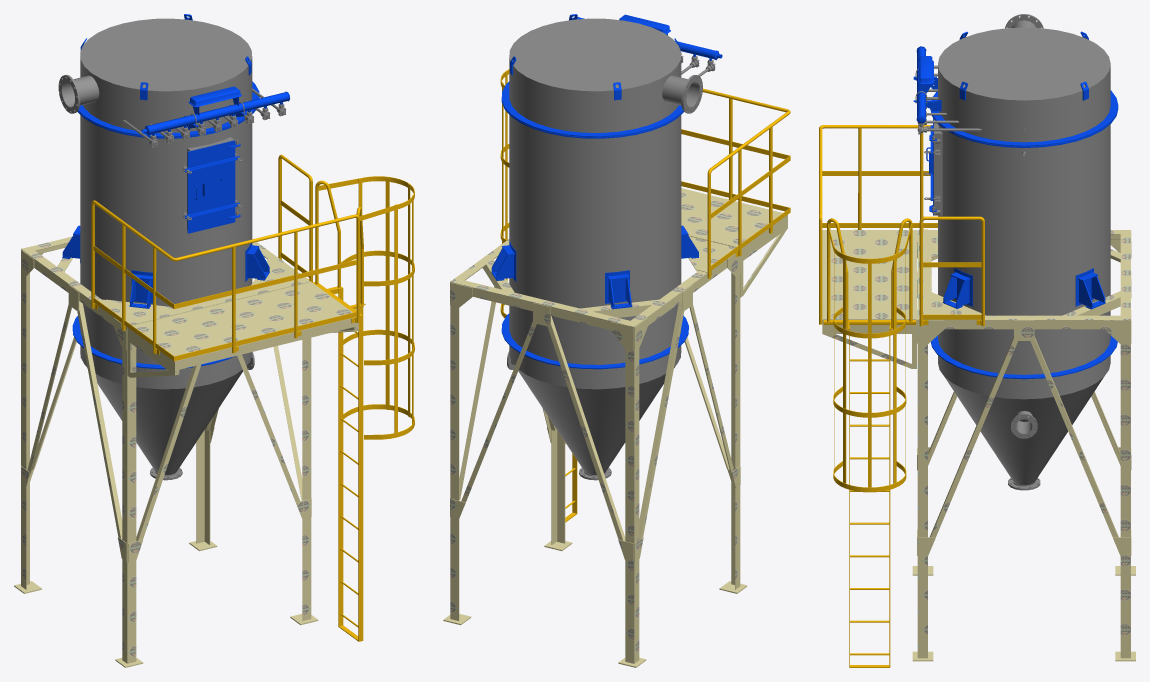
3 renders of one model, left to right at view 1: azimuth 30°, elevation 25°; view 2: azimuth 150°, elevation 25°; view 3: azimuth 270°, elevation 25°, orthographic.
Visible parts, largest first — view 1: alumiumParts, beige_ステージ, yellowParts, blueparts; view 2: alumiumParts, beige_ステージ, blueparts, yellowParts; view 3: alumiumParts, beige_ステージ, yellowParts, blueparts.
Part boxes in pixels (x1,y1,x2,y2): alumiumParts: [58, 18, 286, 480]; beige_ステージ: [14, 236, 358, 667]; yellowParts: [91, 154, 414, 641]; blueparts: [62, 14, 290, 369]; alumiumParts: [507, 18, 715, 480]; beige_ステージ: [443, 188, 787, 667]; blueparts: [491, 14, 722, 369]; yellowParts: [500, 69, 790, 522]; alumiumParts: [915, 14, 1110, 490]; beige_ステージ: [822, 230, 1135, 661]; yellowParts: [819, 125, 984, 667]; blueparts: [913, 31, 1118, 379].
Size of the model in its own units: 2.98 by 5.97 by 3.08.
4 materials, 1 textured.
